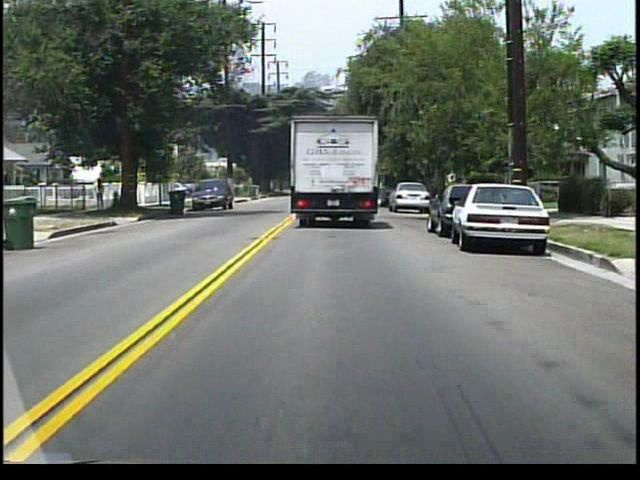person: (96, 179, 110, 212)
